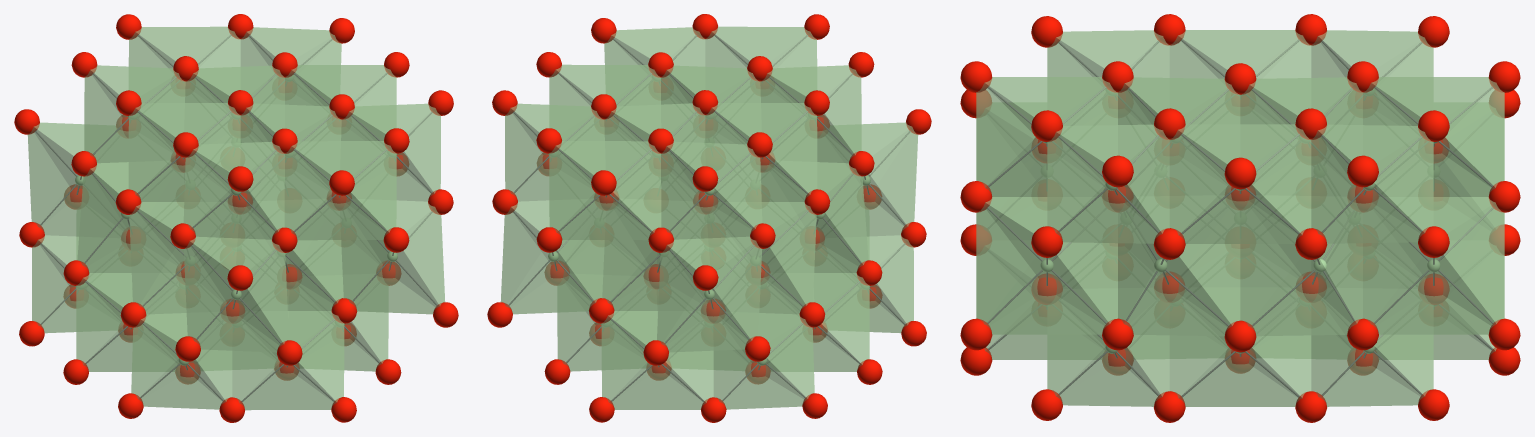
The model's file is Li2MnO3.glb.
The picture shows the model from 3 angles, left to right: view 1: azimuth 30°, elevation 25°; view 2: azimuth 150°, elevation 25°; view 3: azimuth 270°, elevation 25°; orthographic projection. The views are drawn at different scales.
Visible parts, largest first — view 1: Shape_IndexedFaceSet, atom7_IndexedFaceSet, Shape_Cylinder; view 2: Shape_IndexedFaceSet, atom7_IndexedFaceSet, Shape_Cylinder, atom0_IndexedFaceSet; view 3: Shape_IndexedFaceSet, atom7_IndexedFaceSet, Shape_Cylinder, atom0_IndexedFaceSet.
Part boxes in pixels (x1,y1,x2,y2): Shape_IndexedFaceSet: (27,26,445,410); atom7_IndexedFaceSet: (14,14,458,422); Shape_Cylinder: (35,35,437,401); Shape_IndexedFaceSet: (500,26,918,409); atom7_IndexedFaceSet: (487,14,931,422); Shape_Cylinder: (508,34,910,401); atom0_IndexedFaceSet: (548,116,870,365); Shape_IndexedFaceSet: (976,30,1504,406); atom7_IndexedFaceSet: (960,14,1520,422); Shape_Cylinder: (987,39,1493,397); atom0_IndexedFaceSet: (1040,141,1440,353).
Size of the model in its own units: 10.83 by 7.62 by 12.37.
